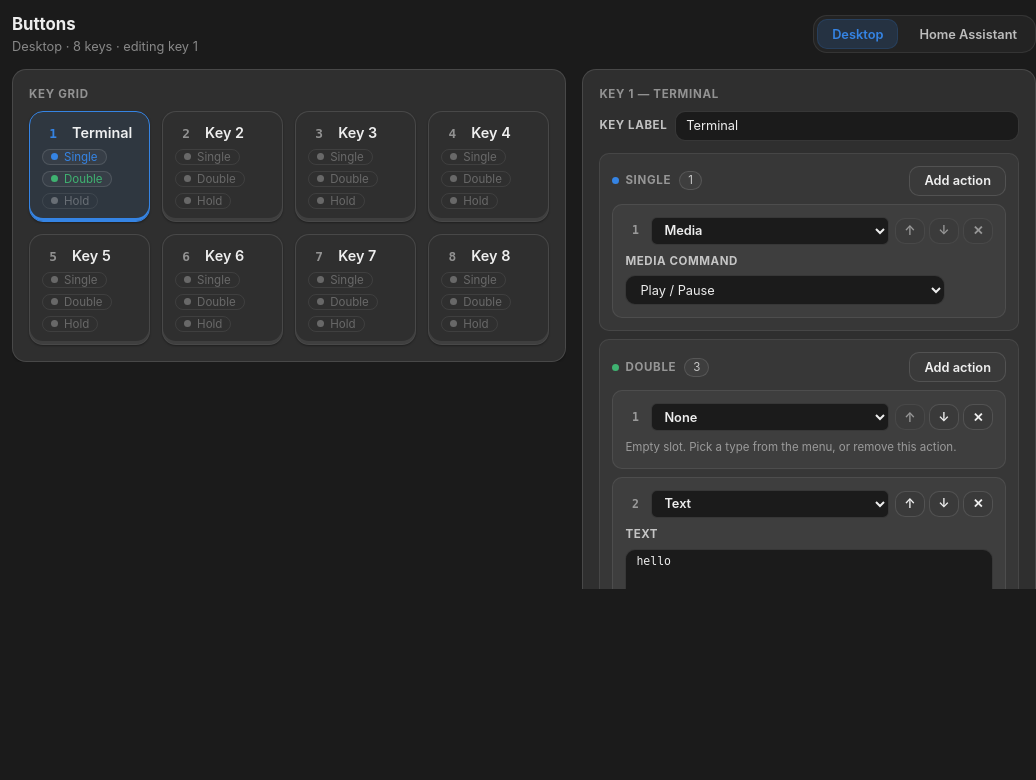
Test case: command failures › clears the error banner once a later command succeeds
This screenshot has width=1036, height=780.
Click the 3rd button with test id "action-remove": (978, 504) [963,491,993,517]
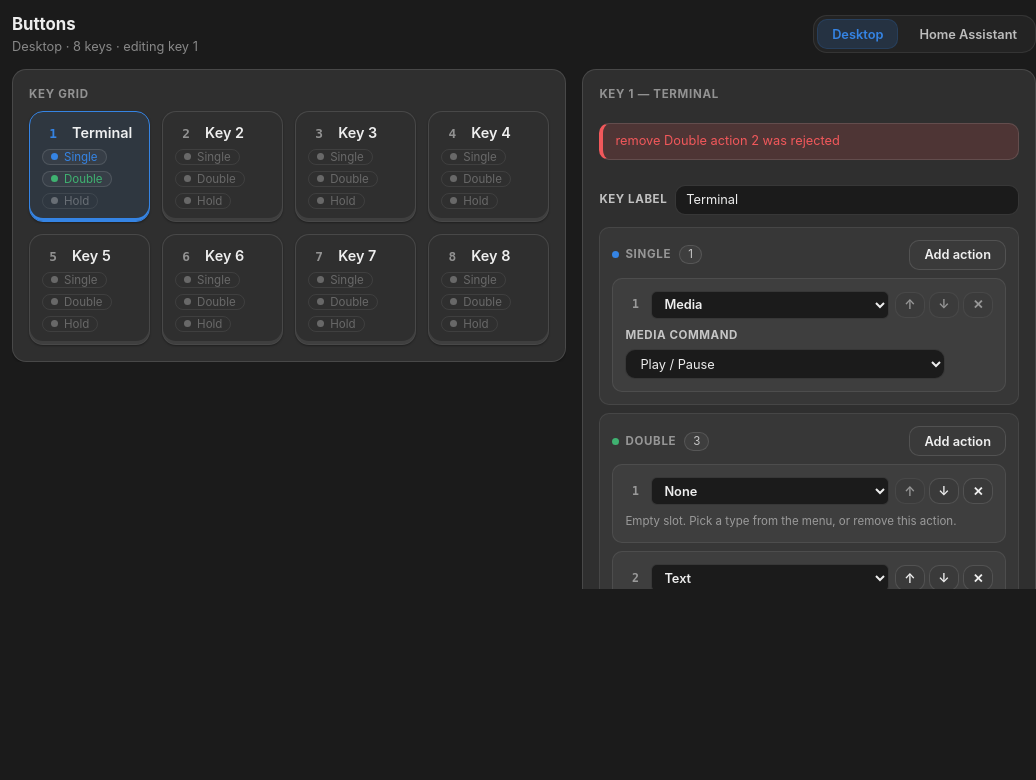
Result: the message "remove Double action 2 was rejected" is shown at [599,123,1019,160]
Click the 3rd button with test id "action-remove": (978, 578) [963,565,993,591]
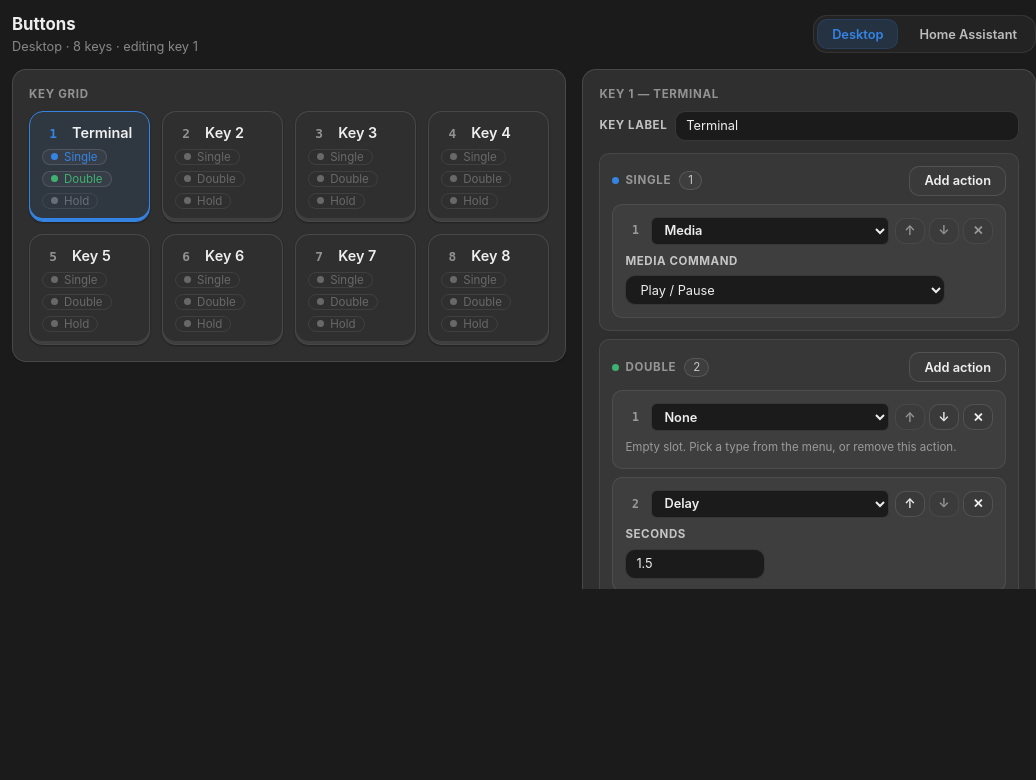
Result: the message with test id "action-error" is gone
